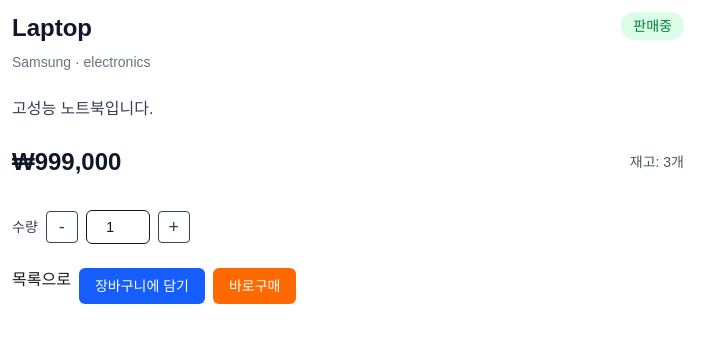
Test: ProductDetail › 재고 초과 입력 시 에러 메시지가 표시되고 최대값으로 보정된다
Replace the text in the number field labelled "수량" with "99" at (118, 227), box [86,210,150,244]
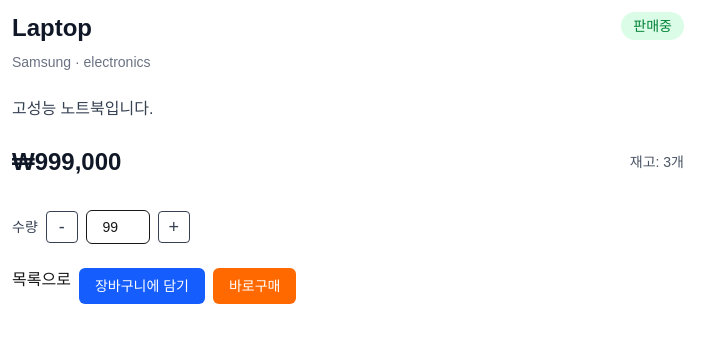
Leave the number field labelled "수량", box [86,210,150,244]
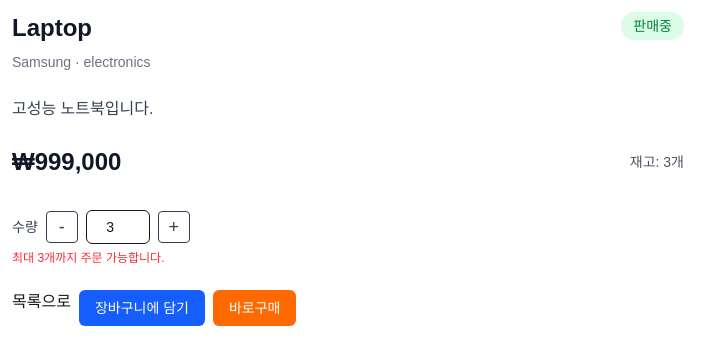
Check: the text "최대 3개까지 주문 가능합니다." is shown, box [12,251,164,265]
Check: the number field labelled "수량" holds "3", box [86,210,150,244]
